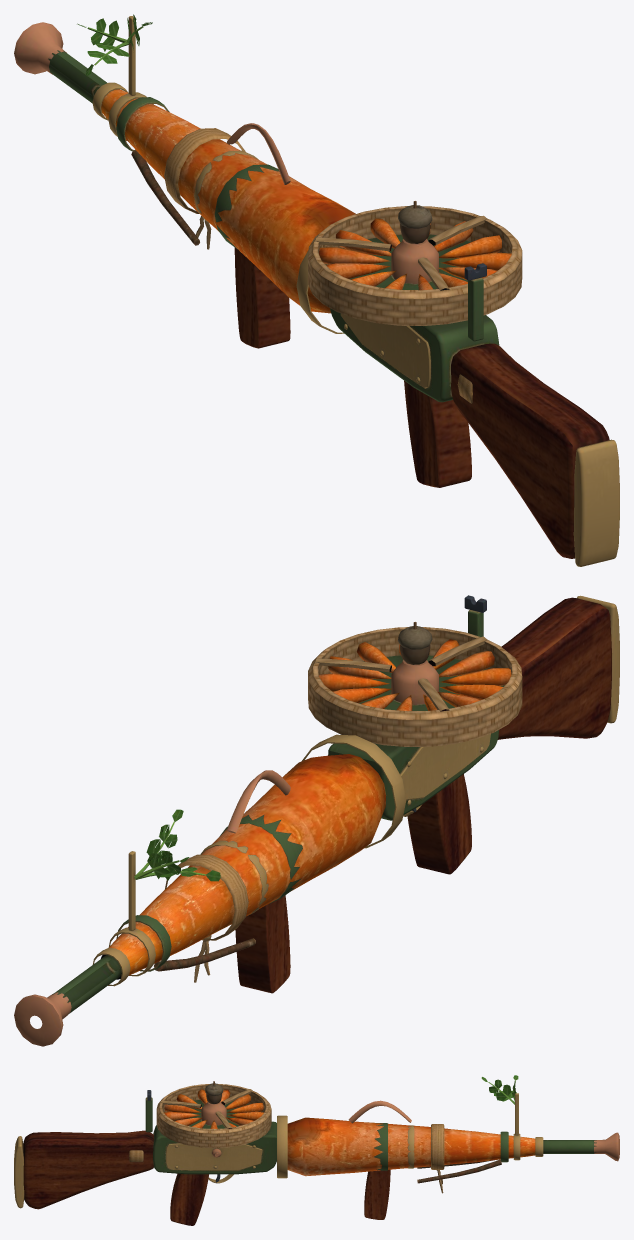
The model's file is carrot_lmg.glb.
3 renders of one model, top to bottom at view 1: azimuth 30°, elevation 25°; view 2: azimuth 150°, elevation 25°; view 3: azimuth 270°, elevation 25°, orthographic. The views are drawn at different scales.
Parts seen in each view (by area): view 1: carrot_lmg; view 2: carrot_lmg; view 3: carrot_lmg.
Boxes of the visible parts, x1=… form: carrot_lmg: x1=14, y1=14, x2=619, y2=566; carrot_lmg: x1=14, y1=595, x2=619, y2=1046; carrot_lmg: x1=14, y1=1075, x2=619, y2=1225.
Bounding box in the file's own units: 0.172 × 0.2323 × 0.9056.
Materials: 1 (1 with a texture image).
